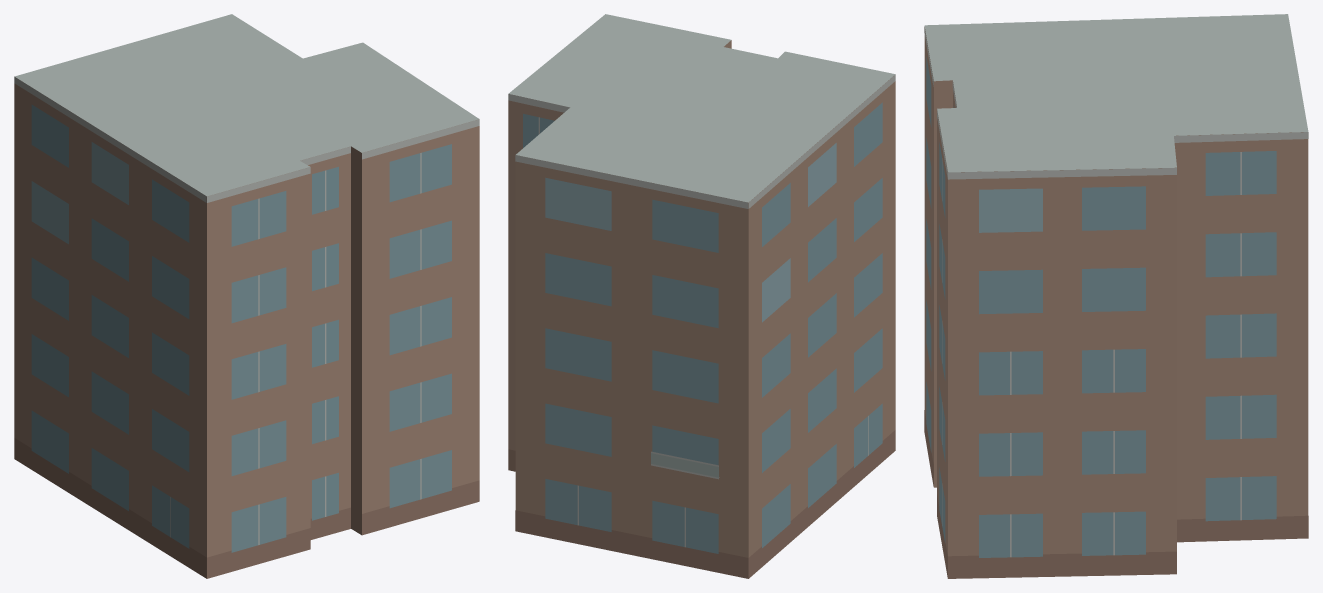
Rendered from survey-upis-32777987.glb.
3 renders of one model, left to right at view 1: azimuth 30°, elevation 25°; view 2: azimuth 150°, elevation 25°; view 3: azimuth 270°, elevation 25°, orthographic. The views are drawn at different scales.
Parts seen in each view (by area): view 1: survey-upis-32777987.tmp; view 2: survey-upis-32777987.tmp; view 3: survey-upis-32777987.tmp.
Boxes of the visible parts, bbox=[...] form: survey-upis-32777987.tmp: bbox=[14, 14, 479, 578]; survey-upis-32777987.tmp: bbox=[508, 14, 895, 578]; survey-upis-32777987.tmp: bbox=[924, 14, 1308, 578].
Size of the model in its own units: 11.62 by 13.9 by 11.91.
